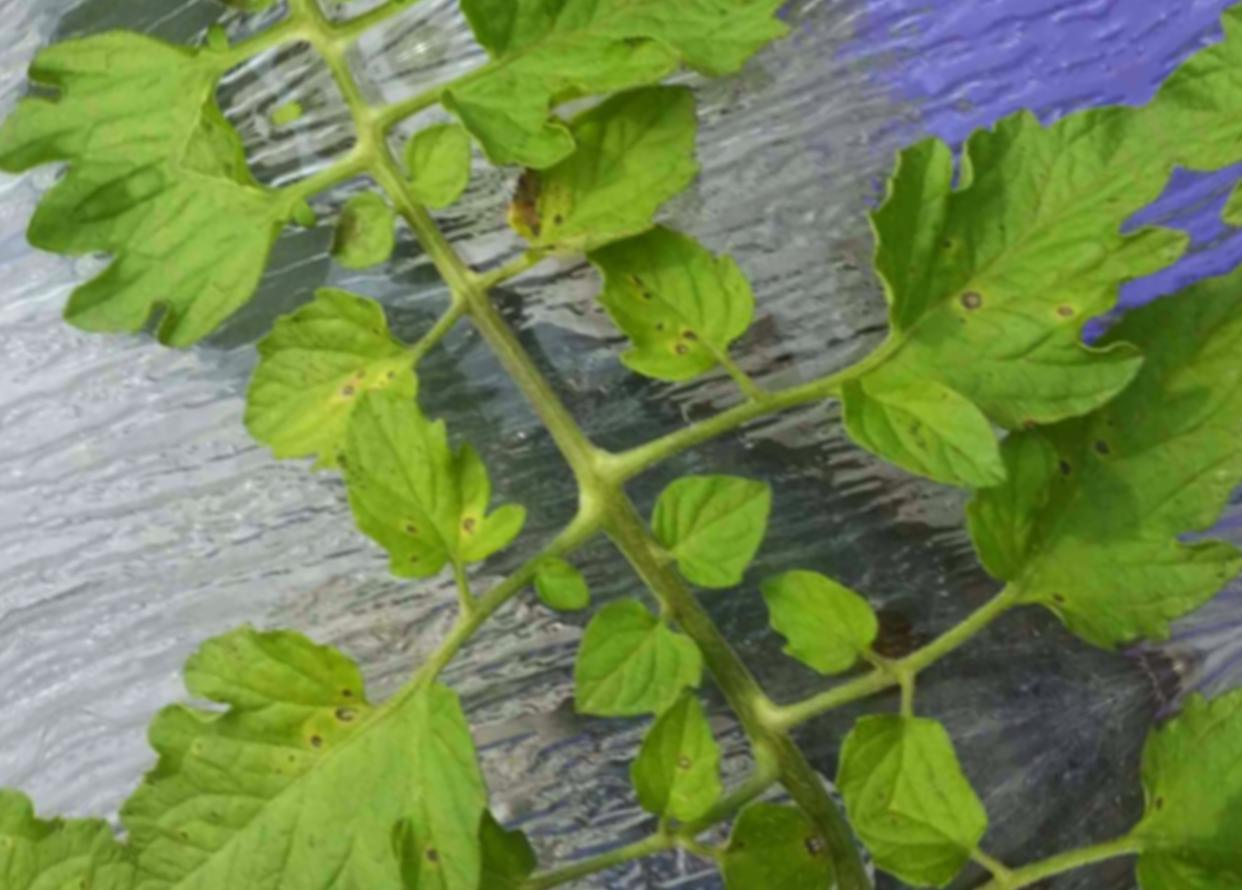Tomato Septoria leaf spot: (737, 30, 1242, 550), (64, 563, 554, 890), (252, 336, 559, 654), (202, 254, 470, 510), (547, 171, 797, 441), (455, 51, 740, 286)
